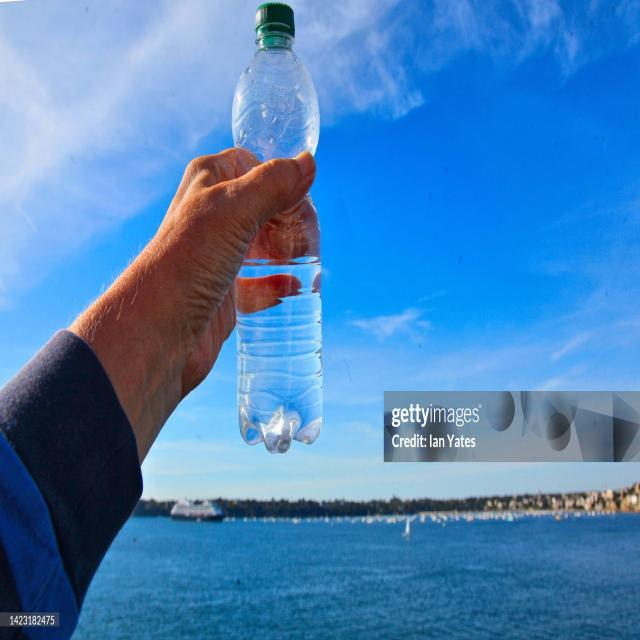bottle: (230, 5, 324, 453)
